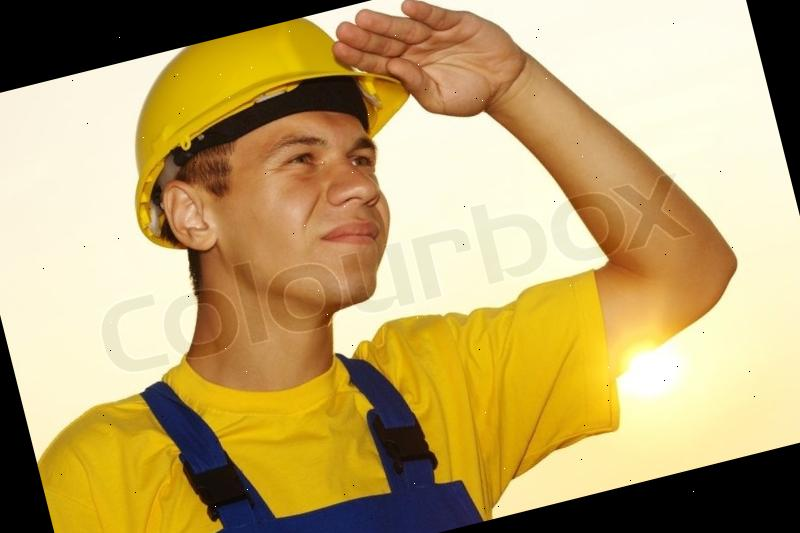helmet: (91, 0, 431, 252)
no_wear: (22, 261, 650, 533)
